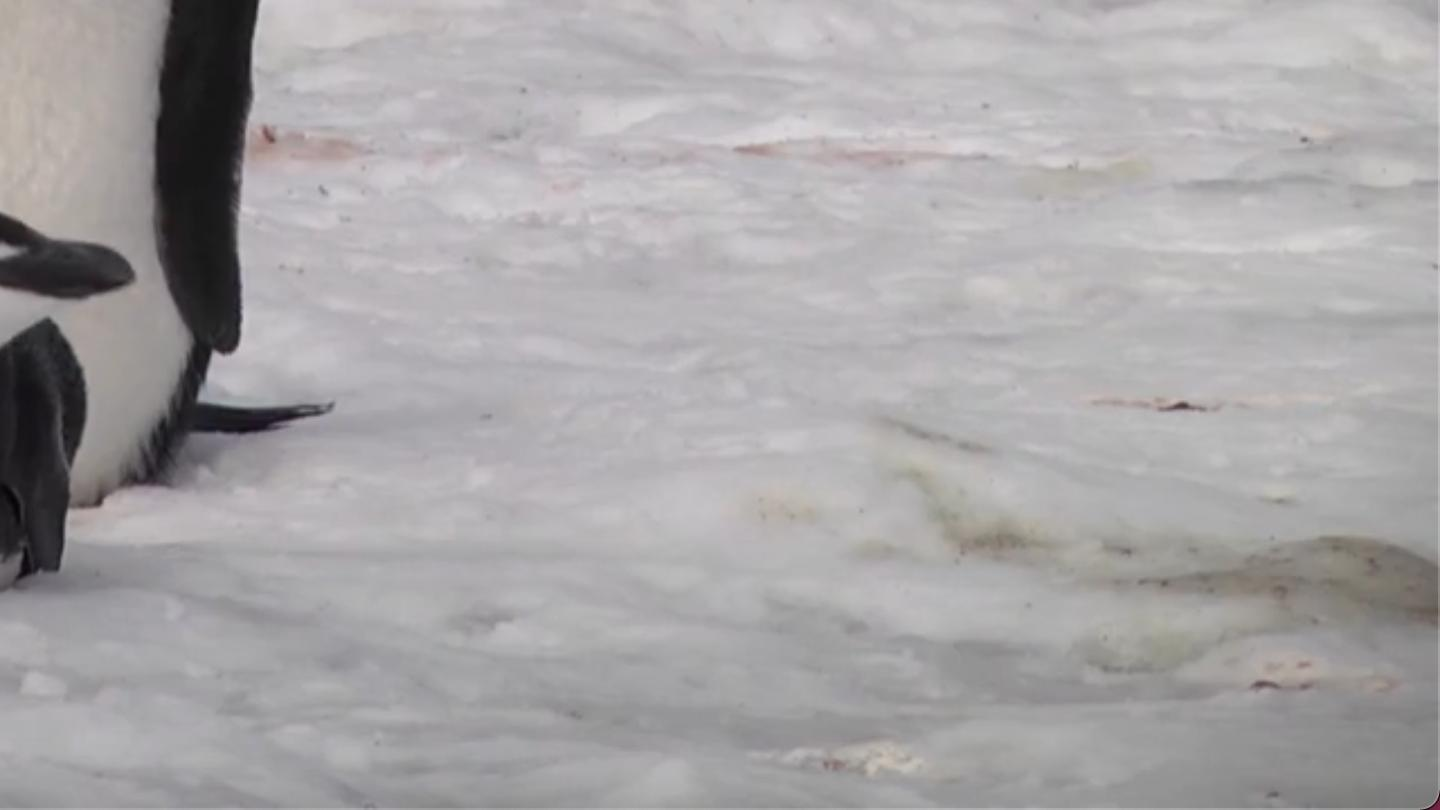Chinstrap Penguin: (0, 160, 163, 621), (0, 0, 278, 144)
